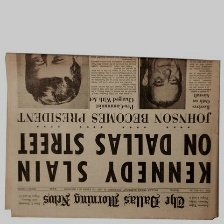news_paper: (0, 52, 220, 221)
